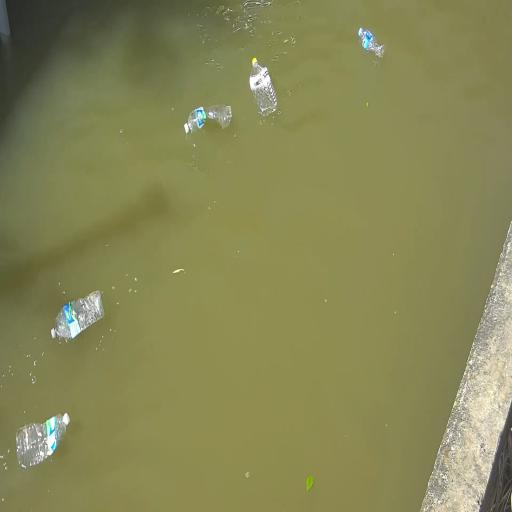plastic: (17, 413, 69, 468), (51, 291, 104, 340), (250, 58, 277, 115), (184, 105, 231, 133), (359, 28, 385, 58)
